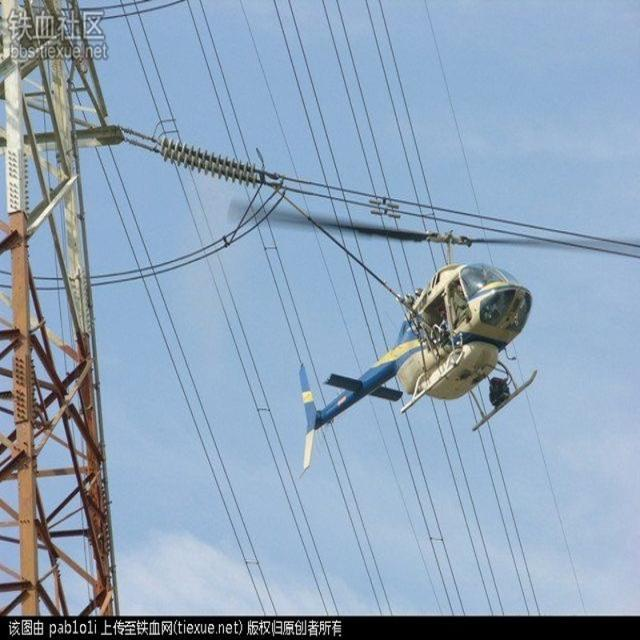non-critical vegetation: (2, 5, 128, 621)
